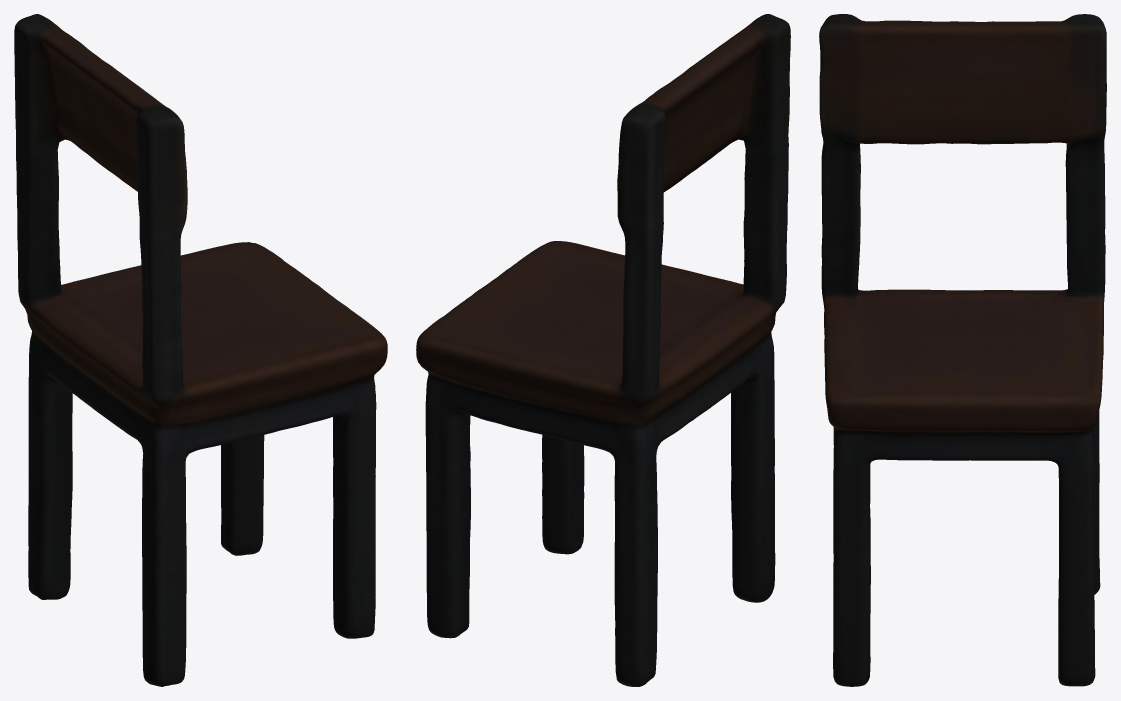
Rendered from chair.glb.
3 renders of one model, left to right at view 1: azimuth 30°, elevation 25°; view 2: azimuth 150°, elevation 25°; view 3: azimuth 270°, elevation 25°, orthographic.
Visible parts, largest first — view 1: mesh; view 2: mesh; view 3: mesh.
Boxes of the visible parts, <box> form: mesh: <box>14,14,387,686</box>; mesh: <box>416,14,790,686</box>; mesh: <box>819,14,1106,686</box>.
Bounding box in the file's own units: 0.4443 × 0.9999 × 0.4592.
Materials: 1 (1 with a texture image).
